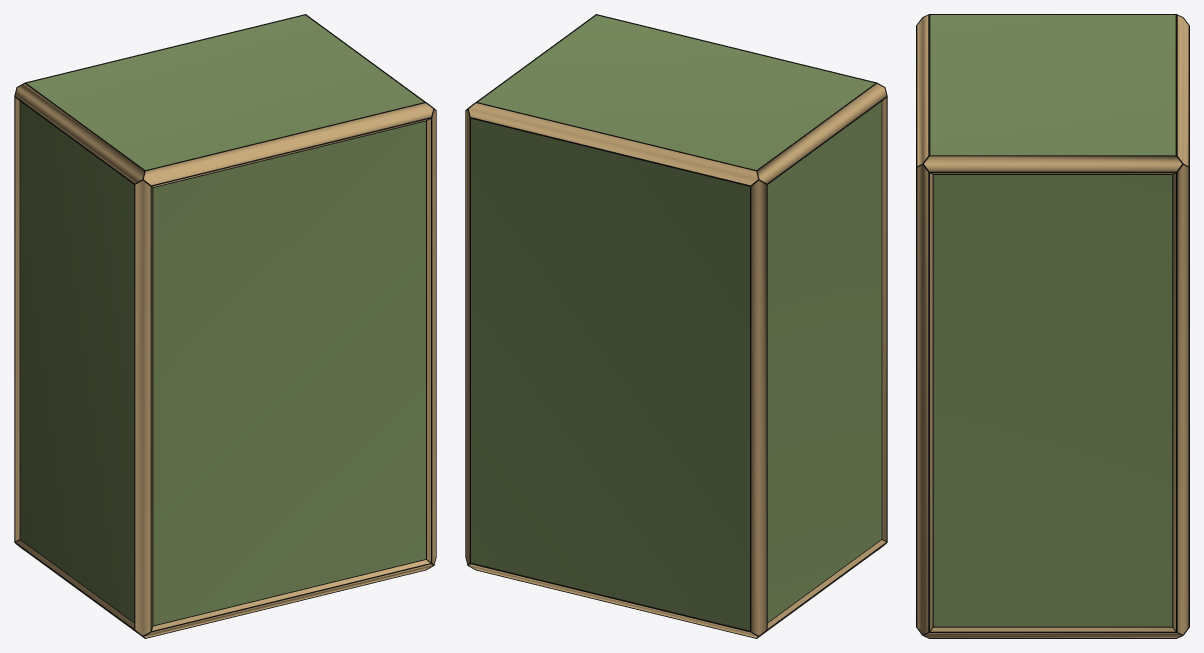
Rendered from 025-meuble-bas.glb.
3 views of the same model, side by side, from view 1: azimuth 30°, elevation 25°; view 2: azimuth 150°, elevation 25°; view 3: azimuth 270°, elevation 25° (orthographic). The views are drawn at different scales.
Visible parts, largest first — view 1: panneau-fond, panneau-joue1, panneau-dessus_exterieur, arete-Z0, arete-X2, arete-Z1, arete-X0, arete-Y2, arete-Z2, panneau-wire-fond, arete-wire-Z0, arete-wire-Z1 (+6 smaller); view 2: panneau-porte, panneau-joue1, panneau-dessus_exterieur, arete-Z2, arete-X3, arete-Y2, arete-Z0, arete-Z3, arete-wire-Z2, panneau-wire-porte, arete-X1, arete-wire-Z3 (+6 smaller); view 3: panneau-joue2, panneau-dessus_exterieur, arete-Z1, arete-Z3, arete-Y3, panneau-wire-joue2, arete-Y1, arete-wire-Z1, arete-wire-Z3, arete-X2, arete-X3, arete-wire-Y3 (+4 smaller).
Boxes of the visible parts, x1,y1,x2,y2 form: panneau-fond: [153, 121, 425, 625]; panneau-joue1: [20, 102, 134, 621]; panneau-dessus_exterieur: [27, 15, 423, 169]; arete-Z0: [135, 180, 152, 635]; arete-X2: [143, 103, 432, 186]; arete-Z1: [427, 110, 435, 563]; arete-X0: [144, 560, 432, 637]; arete-Y2: [15, 84, 144, 183]; arete-Z2: [15, 98, 19, 540]; panneau-wire-fond: [152, 120, 426, 626]; arete-wire-Z0: [134, 179, 152, 631]; arete-wire-Z1: [431, 108, 436, 563]; panneau-porte: [471, 119, 749, 630]; panneau-joue1: [767, 102, 881, 621]; panneau-dessus_exterieur: [478, 15, 874, 169]; arete-Z2: [751, 180, 766, 635]; arete-X3: [469, 103, 758, 185]; arete-Y2: [757, 84, 886, 183]; arete-Z0: [882, 98, 886, 540]; arete-Z3: [466, 110, 469, 563]; arete-wire-Z2: [750, 179, 767, 631]; panneau-wire-porte: [470, 118, 750, 631]; arete-X1: [469, 564, 757, 637]; arete-wire-Z3: [465, 111, 470, 563]; panneau-joue2: [933, 175, 1172, 626]; panneau-dessus_exterieur: [930, 15, 1175, 155]; arete-Z1: [917, 165, 932, 634]; arete-Z3: [1173, 165, 1188, 634]; arete-Y3: [924, 156, 1181, 173]; panneau-wire-joue2: [932, 174, 1173, 627]; arete-Y1: [924, 627, 1181, 637]; arete-wire-Z1: [916, 164, 933, 632]; arete-wire-Z3: [1176, 167, 1189, 632]; arete-X2: [917, 15, 928, 165]; arete-X3: [1177, 15, 1188, 165]; arete-wire-Y3: [929, 155, 1183, 174].
Size of the model in its own units: 0.6238 by 0.9238 by 0.4738.
